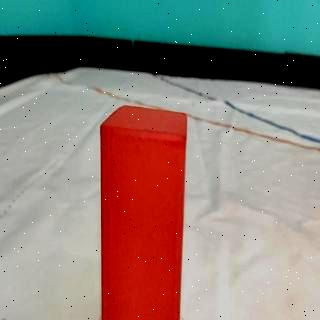redbox: (98, 103, 188, 320)
